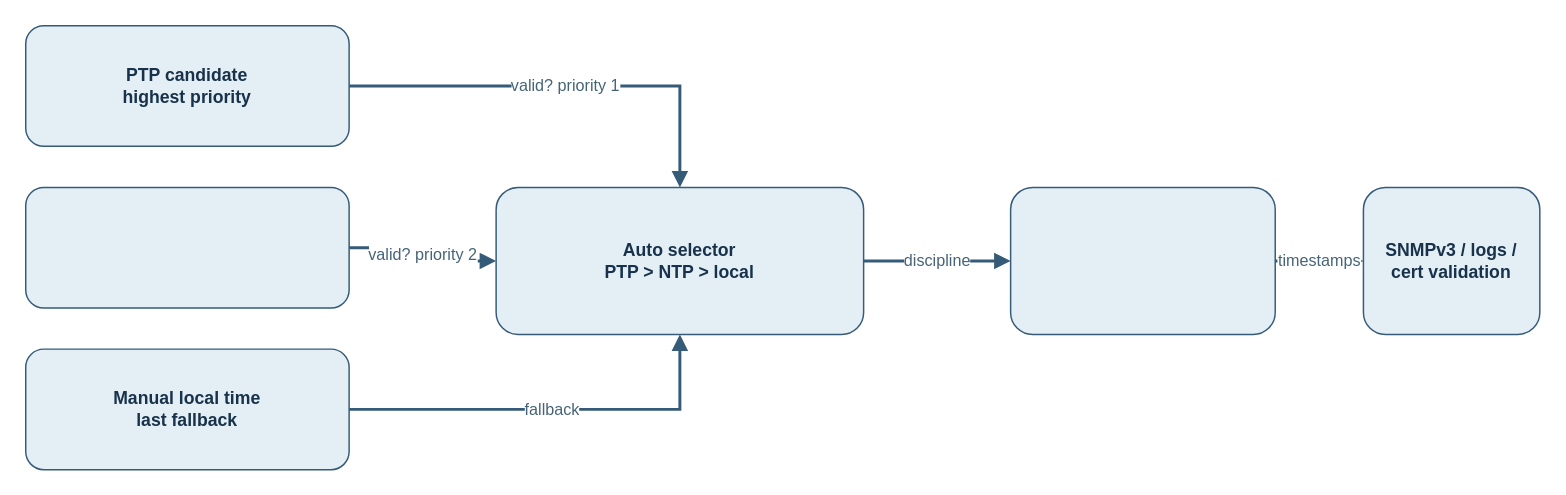
Some shapes in this 1566 by 495 pixel diagram are drawn without their labels. Here are the shapes that lost their labels. From the top down, the box of each, then its label:
(24, 186, 349, 308): NTP candidate fallback
(1009, 186, 1275, 334): System clock selected source
